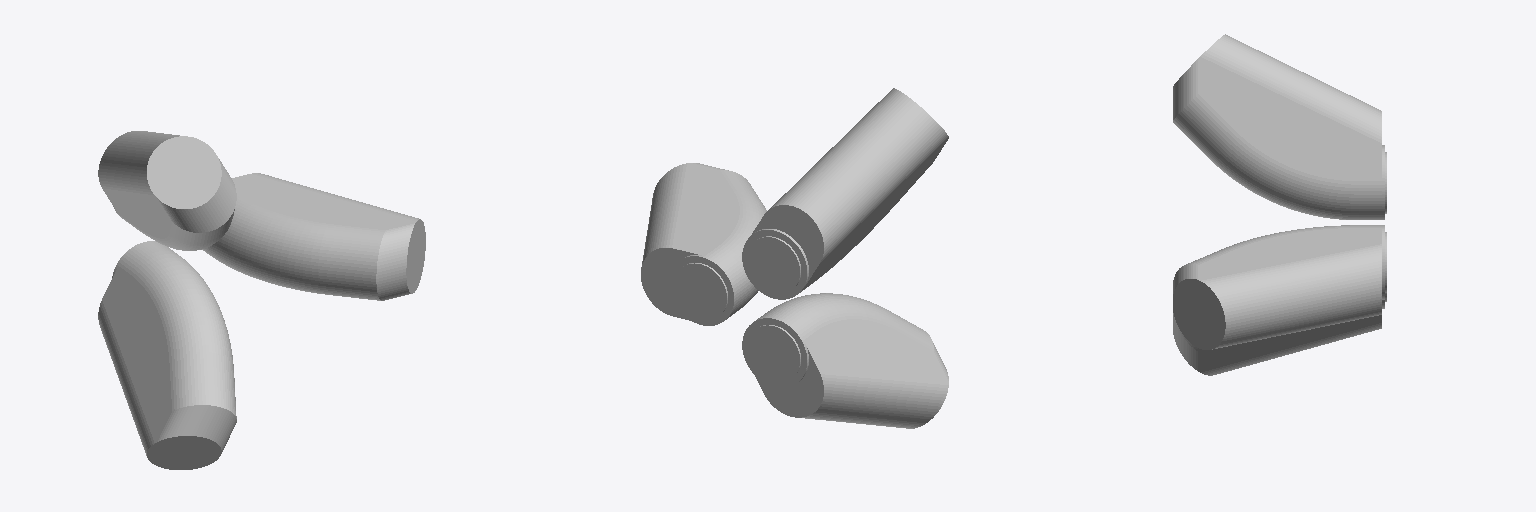
File: hull-mask.obj
3 renders of one model, left to right at view 1: azimuth 30°, elevation 25°; view 2: azimuth 150°, elevation 25°; view 3: azimuth 270°, elevation 25°, orthographic.
Bounding box in the file's own units: 285 × 319 × 186.